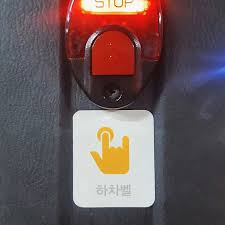bell: (64, 1, 165, 109)
